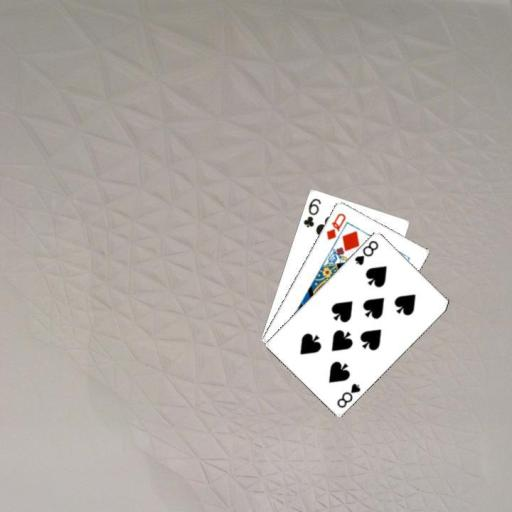6C: (300, 195, 322, 229)
8S: (351, 237, 380, 267), (333, 380, 362, 409)
QD: (323, 210, 347, 241)
